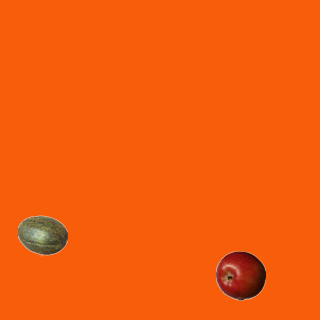Apple Braeburn: (215, 250, 265, 300)
Melon Piel de Sapo: (17, 210, 67, 260)
